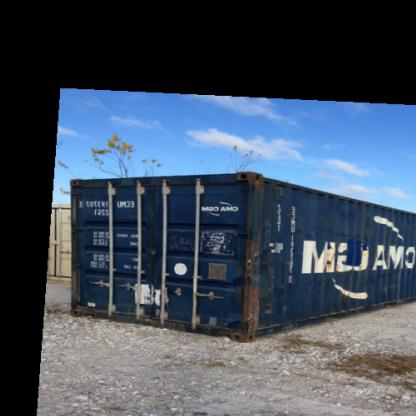Damage: (234, 230, 277, 333), (309, 220, 372, 236), (230, 168, 267, 195), (314, 268, 358, 288), (370, 260, 412, 280), (320, 250, 334, 266)
